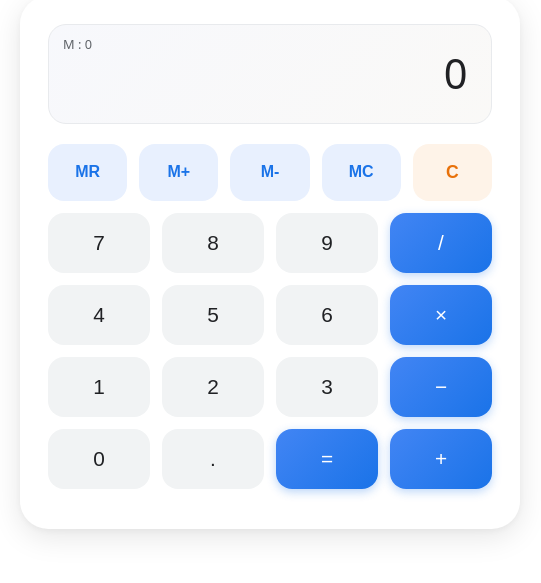
Calculator › performs a full calculation flow
This screenshot has width=541, height=583.
Click the button "5". click: [213, 315]
box: x1=162 y1=285 x2=264 y2=345
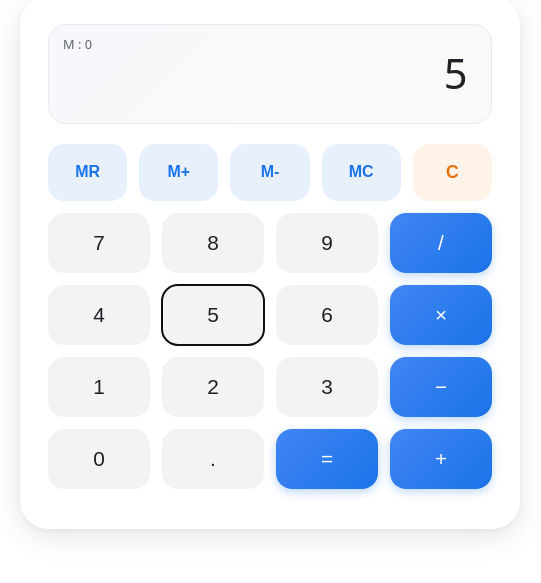
Click the button named "add". click: [441, 459]
box: x1=390 y1=429 x2=492 y2=489
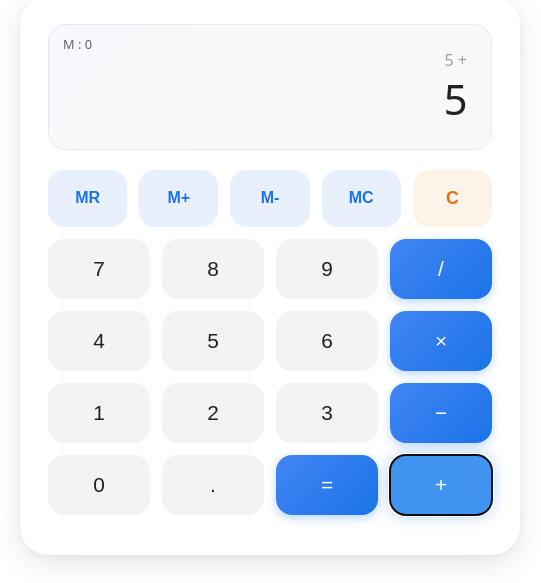
Click the button "3". click: [327, 413]
box: x1=276 y1=383 x2=378 y2=443
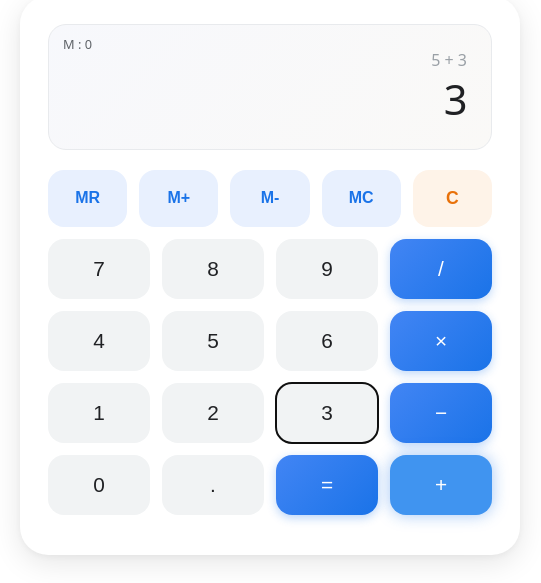
Click the button named "equals". click: [327, 485]
box: x1=276 y1=455 x2=378 y2=515
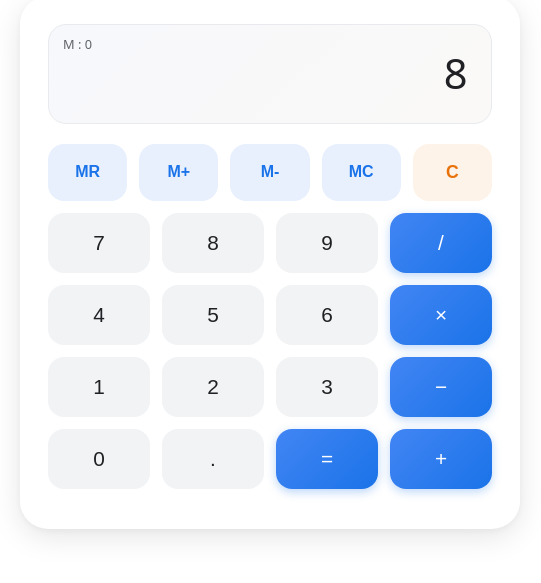
Now the text "8" is shown, box x1=444 y1=49 x2=467 y2=99
